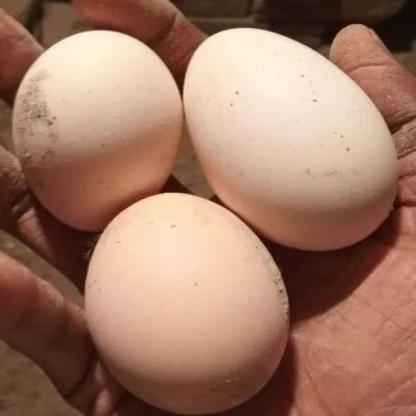egg: (166, 16, 411, 250), (72, 182, 310, 416), (15, 10, 192, 246)
